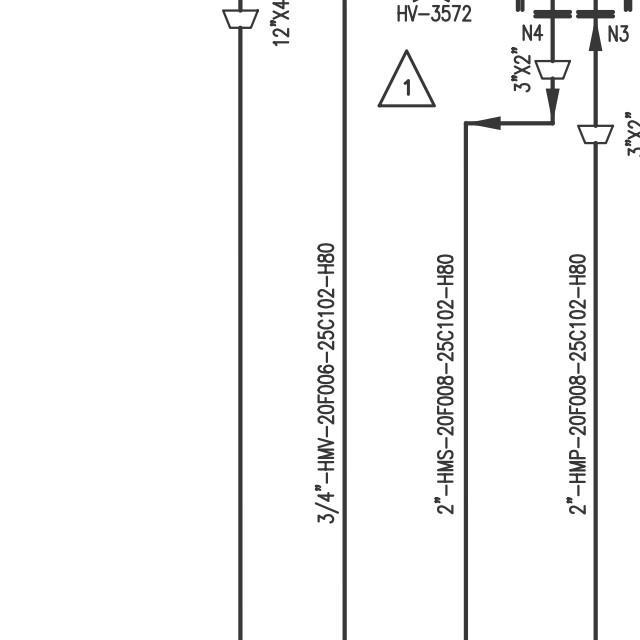SP: (532, 53, 574, 85), (575, 119, 616, 149), (216, 5, 259, 31)
